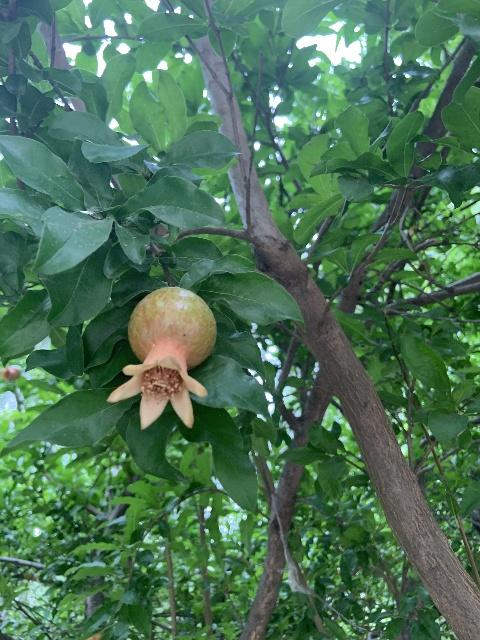early-fruit: (106, 287, 216, 430)
